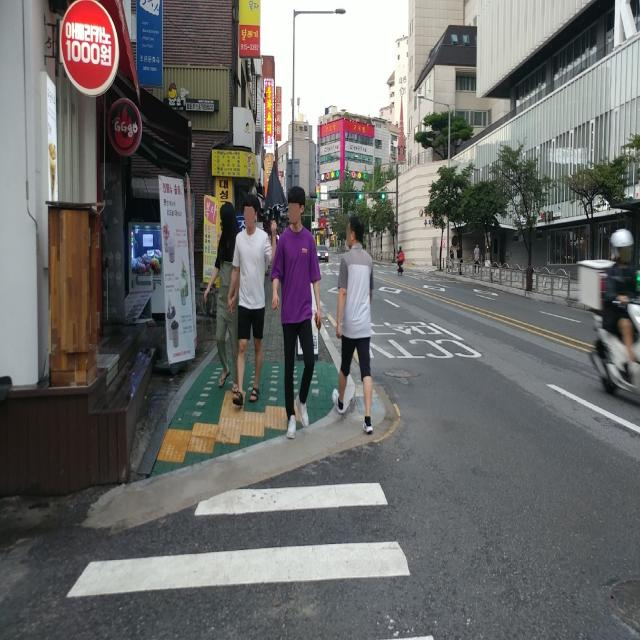횡단보도: (67, 483, 434, 640)
